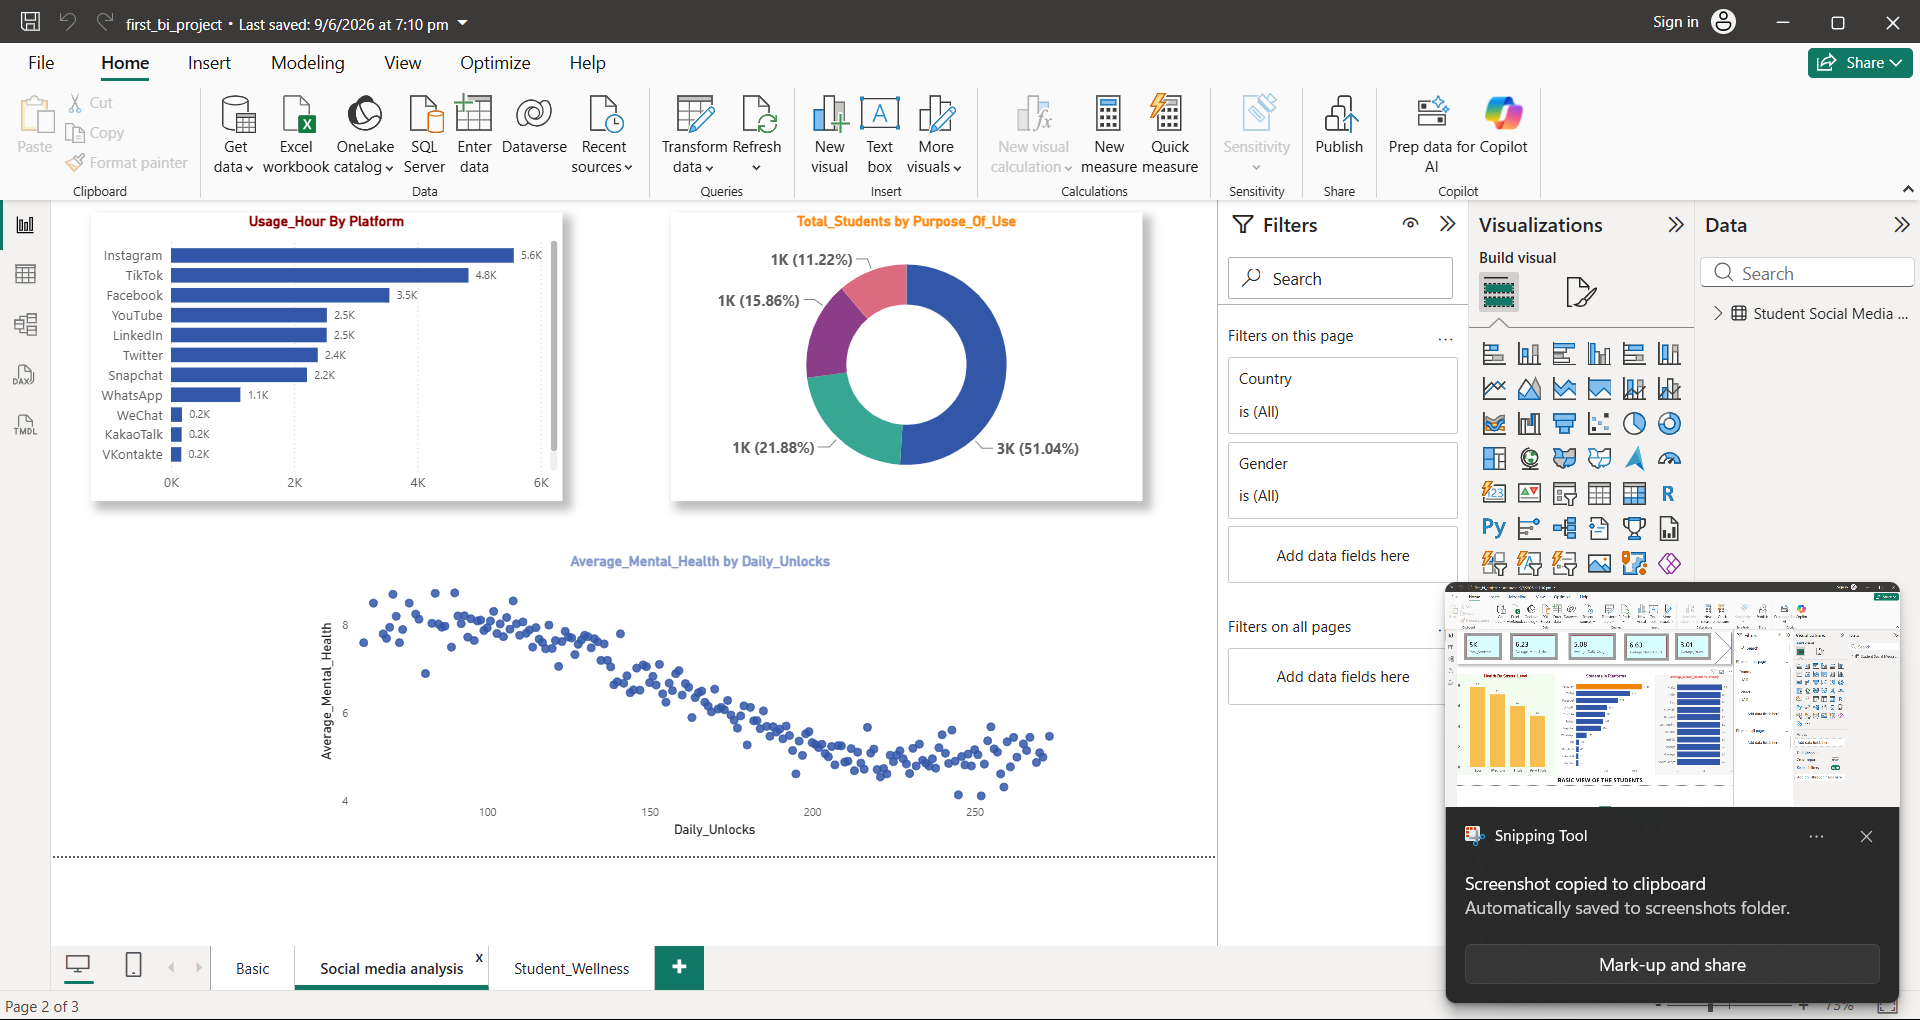

The dashboard page shown, as its layout file describes it:
{"tool":"powerbi","page":{"name":"Social media analysis","canvas":[1280,720],"ordinal":1},"visuals":[{"type":"clusteredBarChart","title":"Usage_Hour By Platform","fields":{"Category":["Student Social Media And Mental Health Impact.Most_Used_Platform"],"Y":["Sum(Student Social Media And Mental Health Impact.Avg_Daily_Usage_Hours)"]},"box":[43.9,13.7,517.3,317],"z":0},{"type":"donutChart","fields":{"Category":["Student Social Media And Mental Health Impact.Purpose_Of_Use"],"Y":["Student Social Media And Mental Health Impact.Total_Students"]},"box":[680.6,13.7,517.3,317],"z":1},{"type":"scatterChart","fields":{"X":["Student Social Media And Mental Health Impact.Daily_Unlocks"],"Y":["Student Social Media And Mental Health Impact.Average_Mental_Health"]},"box":[289.5,387,846.7,317],"z":2}]}

Visuals, with their boxes on the page's 1280x720 design canvas (x1, y1, x2, y2). These are canvas units, not pixel positions in the 1920x1020 screenshot, which may show the page scaled, cropped or inside an application window:
"Usage_Hour By Platform" clusteredBarChart: <box>44,14,561,331</box>
donutChart - Student Social Media And Mental Health Impact.Purpose_Of_Use x Student Social Media And Mental Health Impact.Total_Students: <box>681,14,1198,331</box>
scatterChart - Student Social Media And Mental Health Impact.Daily_Unlocks x Student Social Media And Mental Health Impact.Average_Mental_Health: <box>290,387,1136,704</box>
